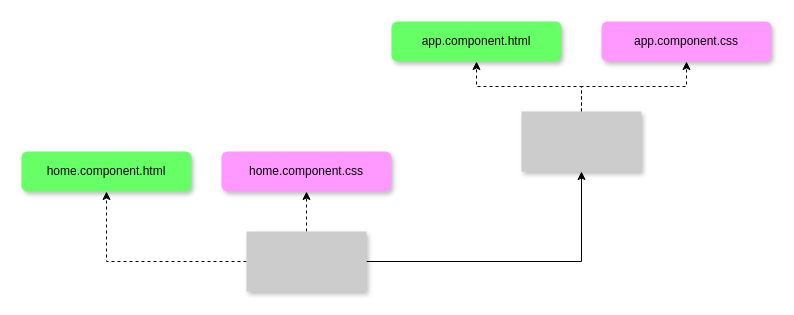
Image size: 794x315. Some labels were removed from this diagram. The centre of each missing label's shape, as x and y in pixels:
AppComponent: (582,142)
HomeComponent: (307,262)
